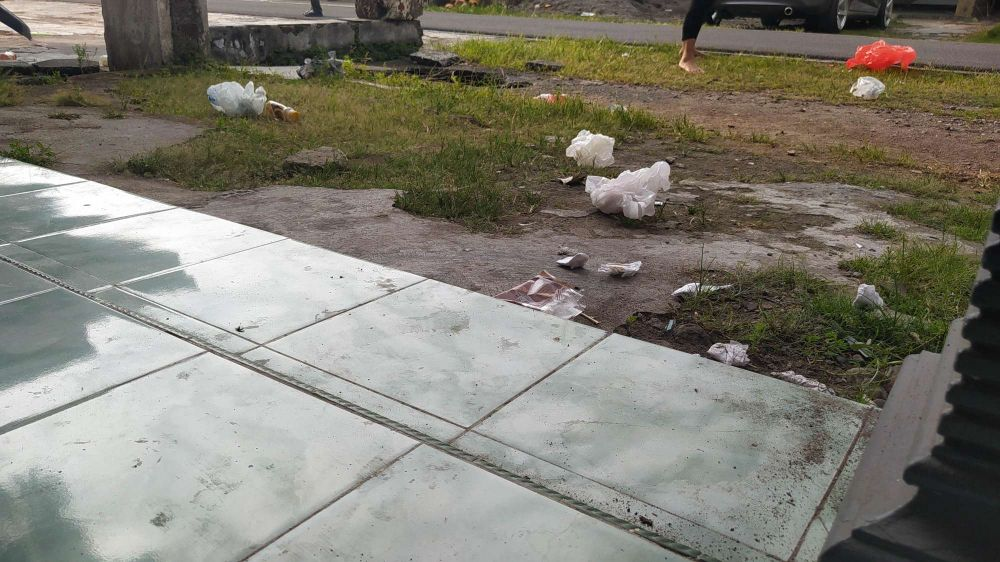botol: (258, 94, 303, 122)
plastik: (584, 160, 683, 225), (836, 29, 926, 69), (198, 74, 267, 116), (566, 125, 626, 167), (844, 264, 888, 314), (602, 249, 649, 284), (664, 268, 716, 298), (849, 73, 898, 101), (559, 243, 592, 274)
